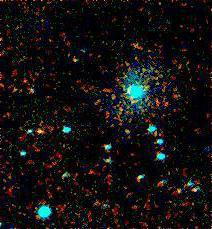star: (114, 118, 144, 148)
